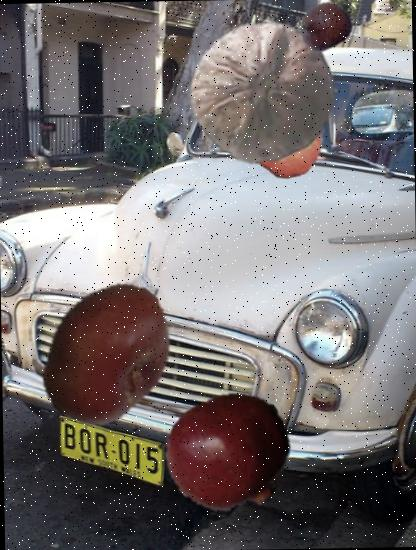Clementine: (246, 105, 323, 182)
Nectarine: (31, 278, 184, 430)
Pomegranate: (165, 386, 295, 516)
Salak: (298, 0, 353, 53)
Walnut: (186, 15, 338, 168)
